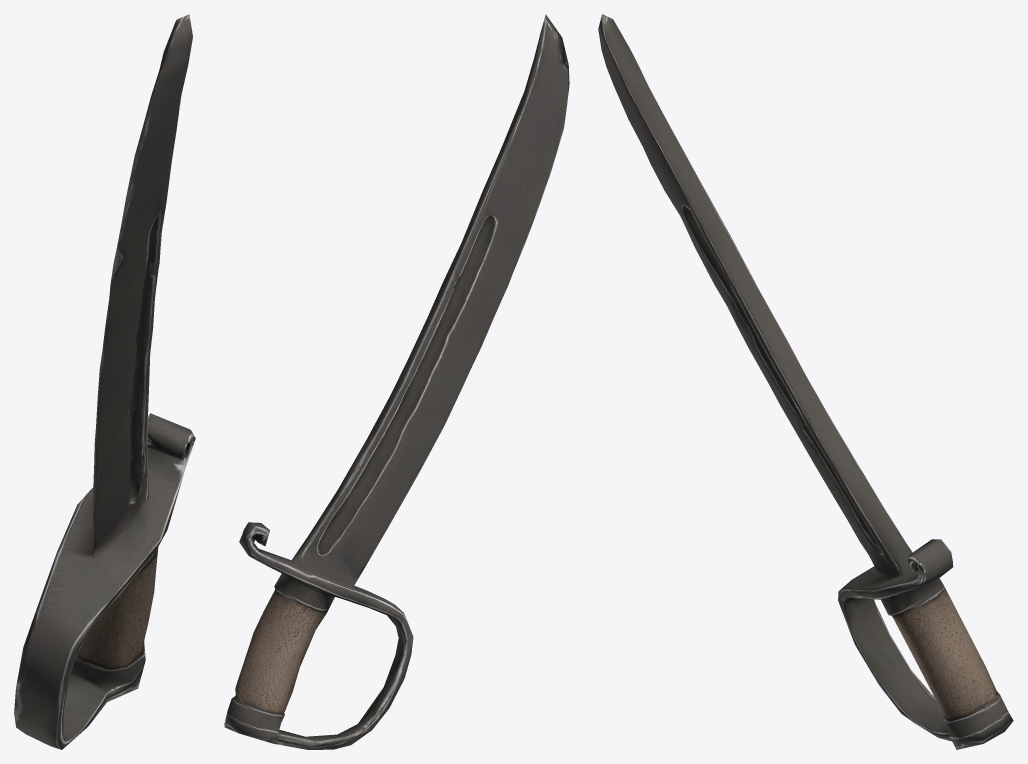
The model's file is cavalry_base_melee.glb.
3 renders of one model, left to right at view 1: azimuth 30°, elevation 25°; view 2: azimuth 150°, elevation 25°; view 3: azimuth 270°, elevation 25°, orthographic. The views are drawn at different scales.
Parts seen in each view (by area): view 1: tripo_node_7892b5ca-854d-4461-ac8b-5afc5d6648fc; view 2: tripo_node_7892b5ca-854d-4461-ac8b-5afc5d6648fc; view 3: tripo_node_7892b5ca-854d-4461-ac8b-5afc5d6648fc.
Part boxes in pixels (bbox=[...]): tripo_node_7892b5ca-854d-4461-ac8b-5afc5d6648fc: bbox=[14, 14, 195, 749]; tripo_node_7892b5ca-854d-4461-ac8b-5afc5d6648fc: bbox=[224, 14, 569, 749]; tripo_node_7892b5ca-854d-4461-ac8b-5afc5d6648fc: bbox=[598, 14, 1013, 749].
Size of the model in its own units: 0.166 by 0.5558 by 0.3074.
Materials: 1 (1 with a texture image).
